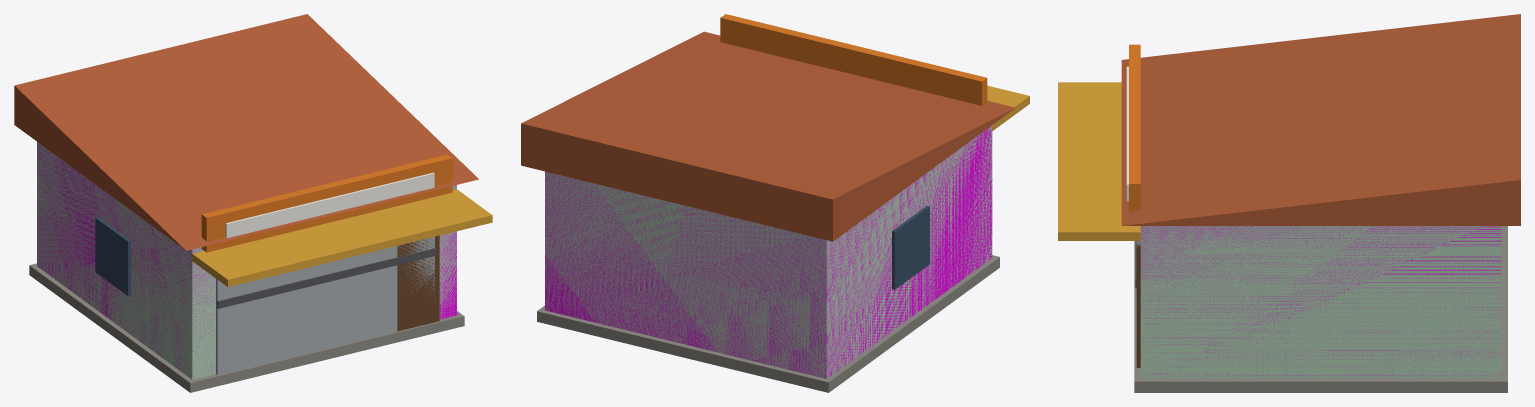
The model's file is Shop_1S_02.glb.
The picture shows the model from 3 angles, left to right: view 1: azimuth 30°, elevation 25°; view 2: azimuth 150°, elevation 25°; view 3: azimuth 270°, elevation 25°; orthographic projection. The views are drawn at different scales.
Visible parts, largest first — view 1: Shop_1S_02, Shop_1S_02_COL; view 2: Shop_1S_02, Shop_1S_02_COL; view 3: Shop_1S_02, Shop_1S_02_COL.
Boxes of the visible parts, bbox=[...] form: Shop_1S_02: bbox=[14, 14, 492, 392]; Shop_1S_02_COL: bbox=[37, 142, 456, 372]; Shop_1S_02: bbox=[521, 14, 1029, 392]; Shop_1S_02_COL: bbox=[545, 126, 992, 378]; Shop_1S_02: bbox=[1058, 14, 1520, 392]; Shop_1S_02_COL: bbox=[1140, 226, 1501, 378].
Bounding box in the file's own units: 6.2 × 3.8 × 7.3.
